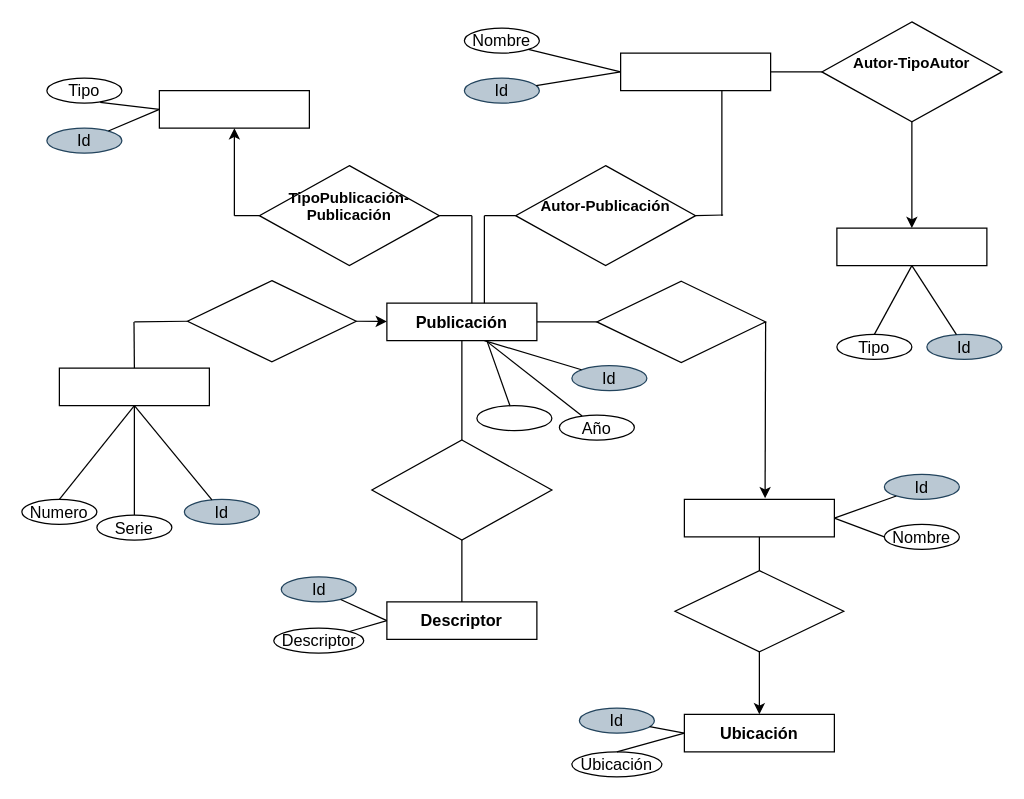
This 1024x799 diagram has some shape labels left out. The centre of each missing label's shape, as x and y in pixels:
"Autor" goes at point (695, 71).
"Editorial" goes at point (758, 517).
"Editorial-Ubicación" goes at point (759, 610).
"Publicación-Descriptor" goes at point (461, 489).
"Publicación-Editorial" goes at point (681, 321).
"Publicación-Volumen" goes at point (271, 320).
"TipoAutor" goes at point (911, 246).
"TipoPublicación" goes at point (233, 108).
"Título" goes at point (514, 417).
"Volumen" goes at point (133, 386).
